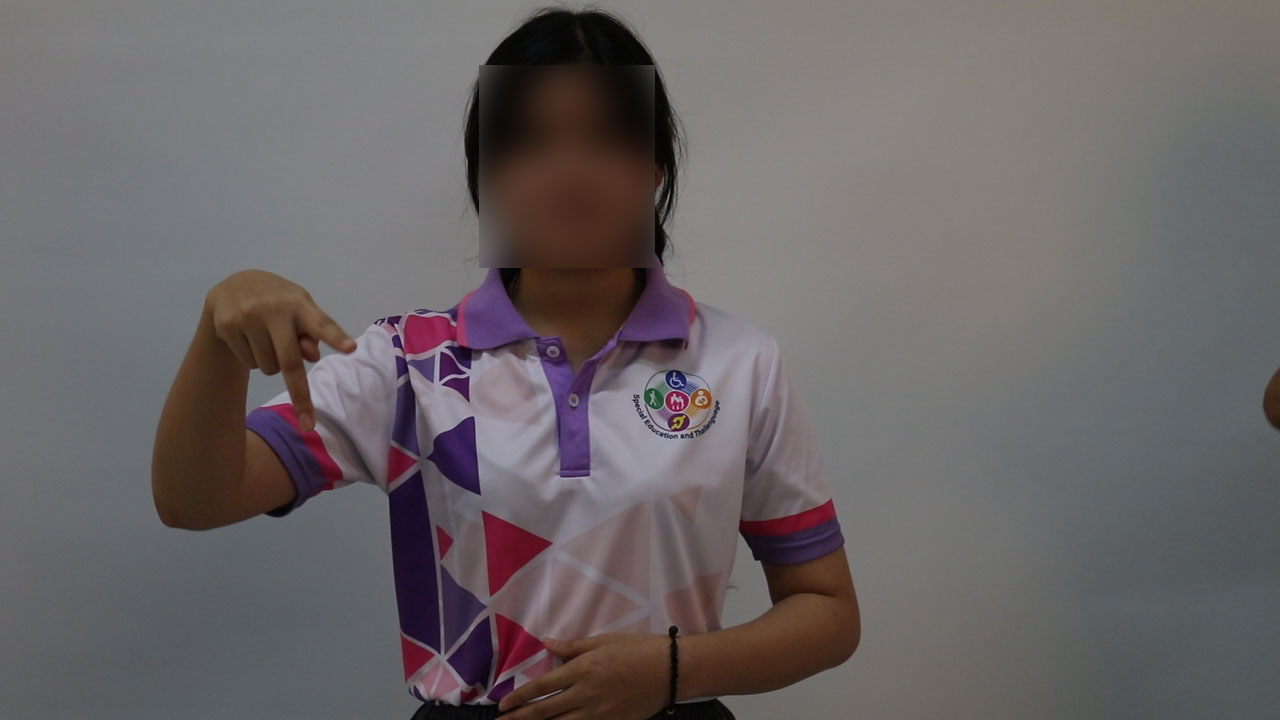por: (184, 243, 367, 437)
